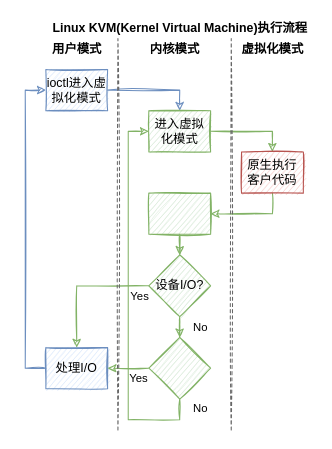
Some shapes in this 332 by 449 pixel diagram are drawn without their labels. The shapes that lost their labels are listed below. From the top down, each one's centre as x and y in pixels, then its label:
At point 179,213: "处理各类退出".
At point 179,367: "待处理 的信号?".
